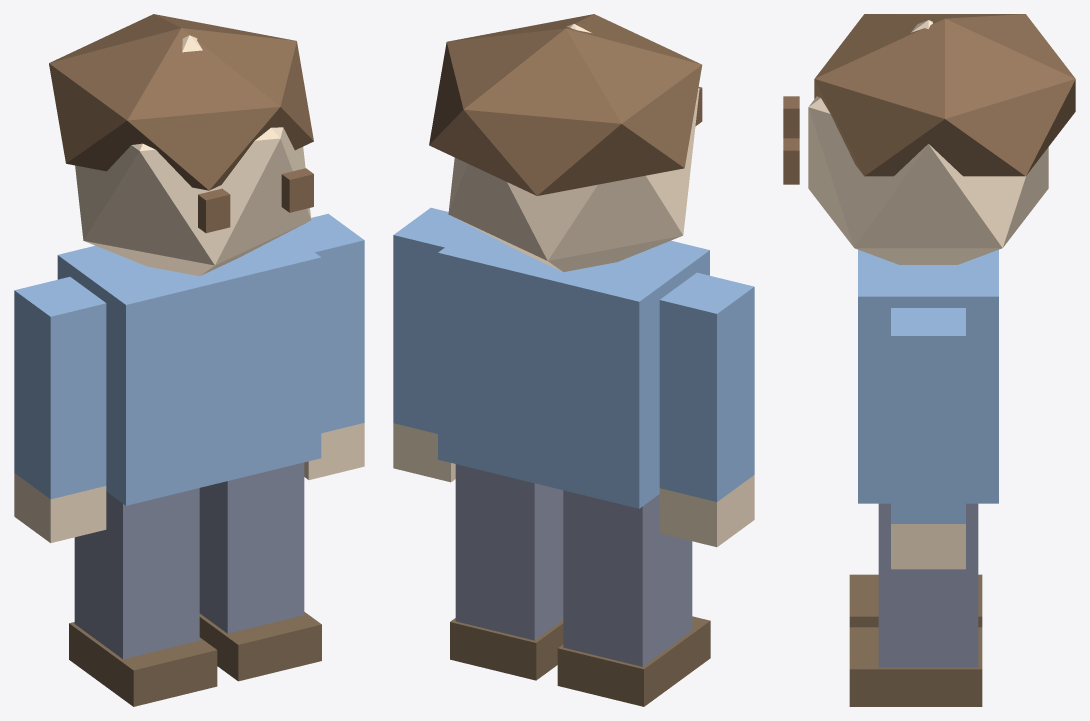
The model's file is person.glb.
The picture shows the model from 3 angles, left to right: view 1: azimuth 30°, elevation 25°; view 2: azimuth 150°, elevation 25°; view 3: azimuth 270°, elevation 25°; orthographic projection. The views are drawn at different scales.
Visible parts, largest first — view 1: person; view 2: person; view 3: person.
Part boxes in pixels (<box>): person: <box>14,14,364,706</box>; person: <box>393,14,754,706</box>; person: <box>783,14,1075,706</box>.
Bounding box in the file's own units: 0.9 × 1.7 × 0.7047.
